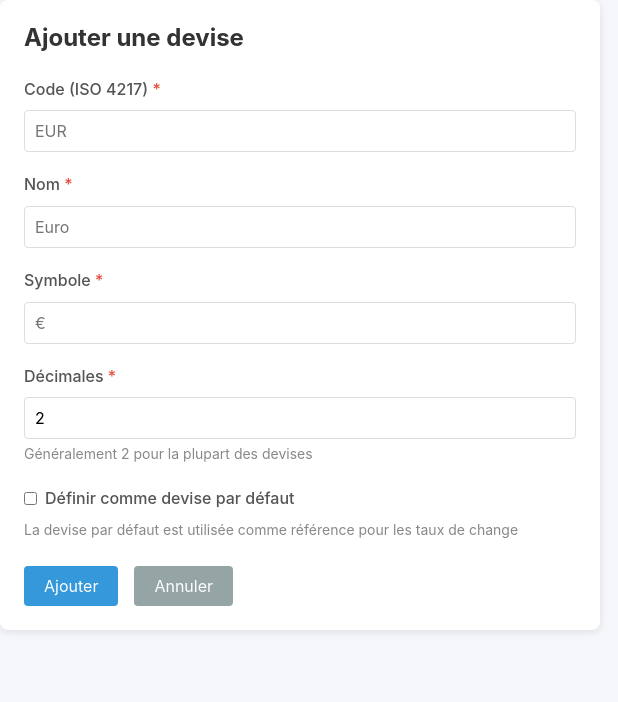
Test case: CurrencyForm - Mode Ajout › devrait afficher les erreurs de validation
This screenshot has width=618, height=702.
Type "chf" into the field labelled "Code (ISO 4217) *".
click(300, 131); type("chf")  # box top-left (24, 110), bottom-right (576, 152)
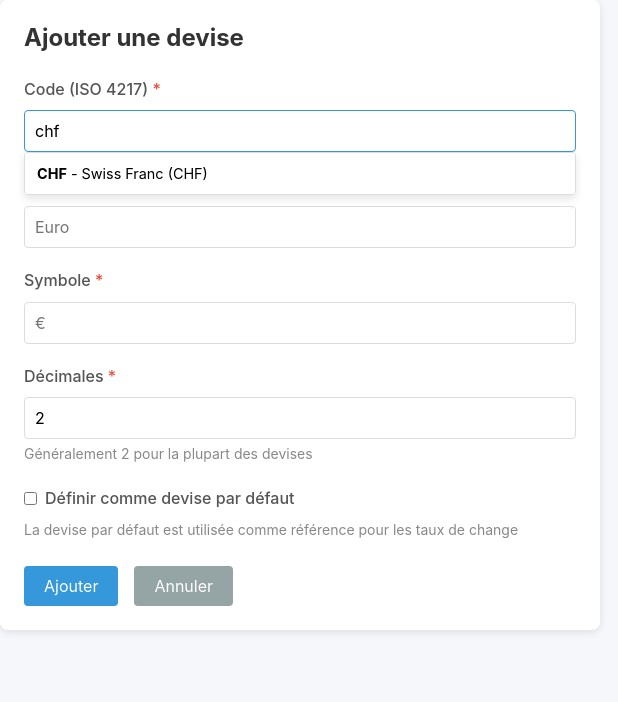
Type "Franc Suisse" into the field labelled "Nom *".
click(300, 227); type("Franc Suisse")  # box top-left (24, 206), bottom-right (576, 248)
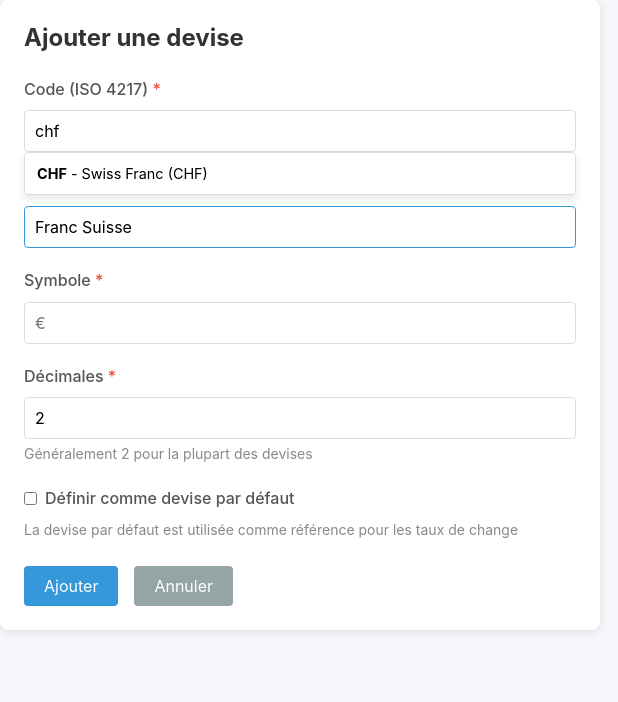
Type "Fr." into the field labelled "Symbole *".
click(300, 323); type("Fr.")  # box top-left (24, 302), bottom-right (576, 344)
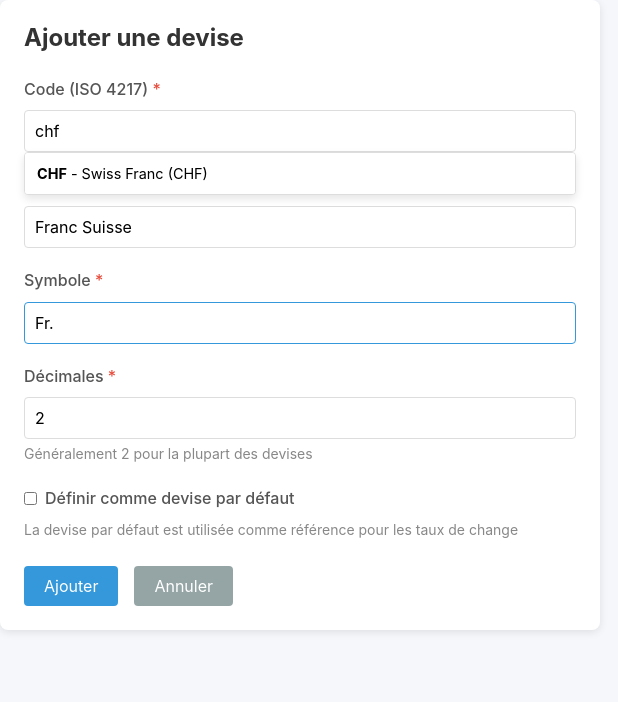
Click the button "Ajouter".
click(71, 586)  # box top-left (24, 566), bottom-right (118, 606)
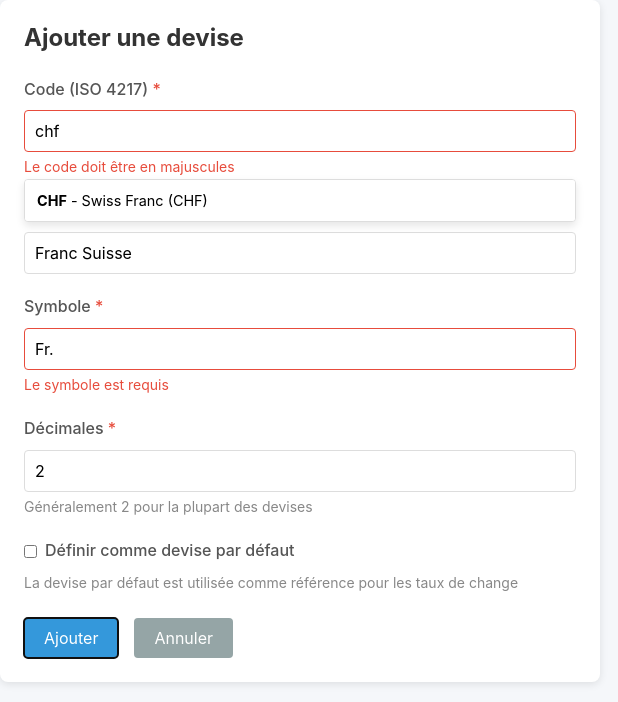
expect the text "Le code doit être en majuscules" is shown: met, box top-left (24, 158), bottom-right (235, 175)
